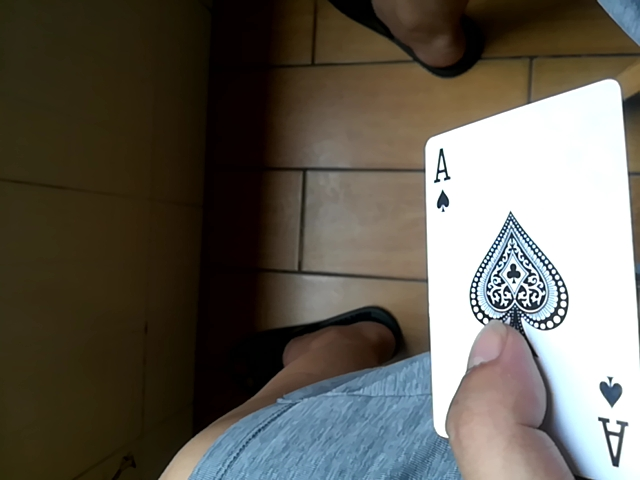ht a: (416, 72, 637, 471)
